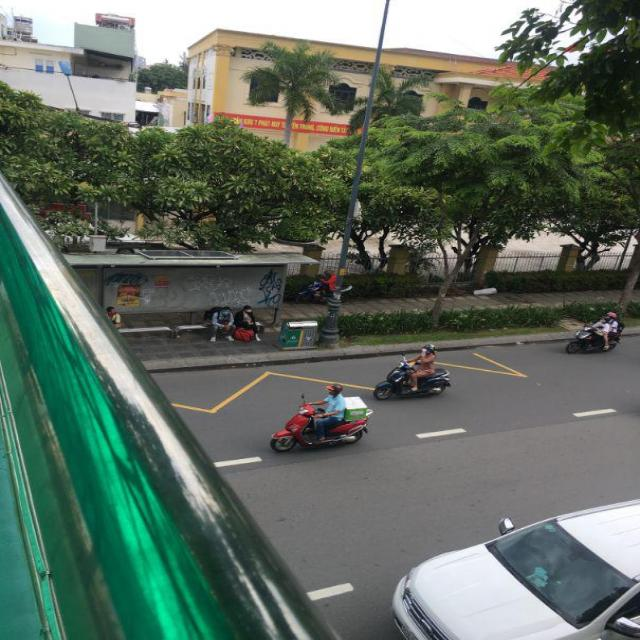car: (388, 474, 640, 638)
motorcycle: (268, 388, 374, 454), (374, 359, 450, 401), (569, 316, 623, 353)
